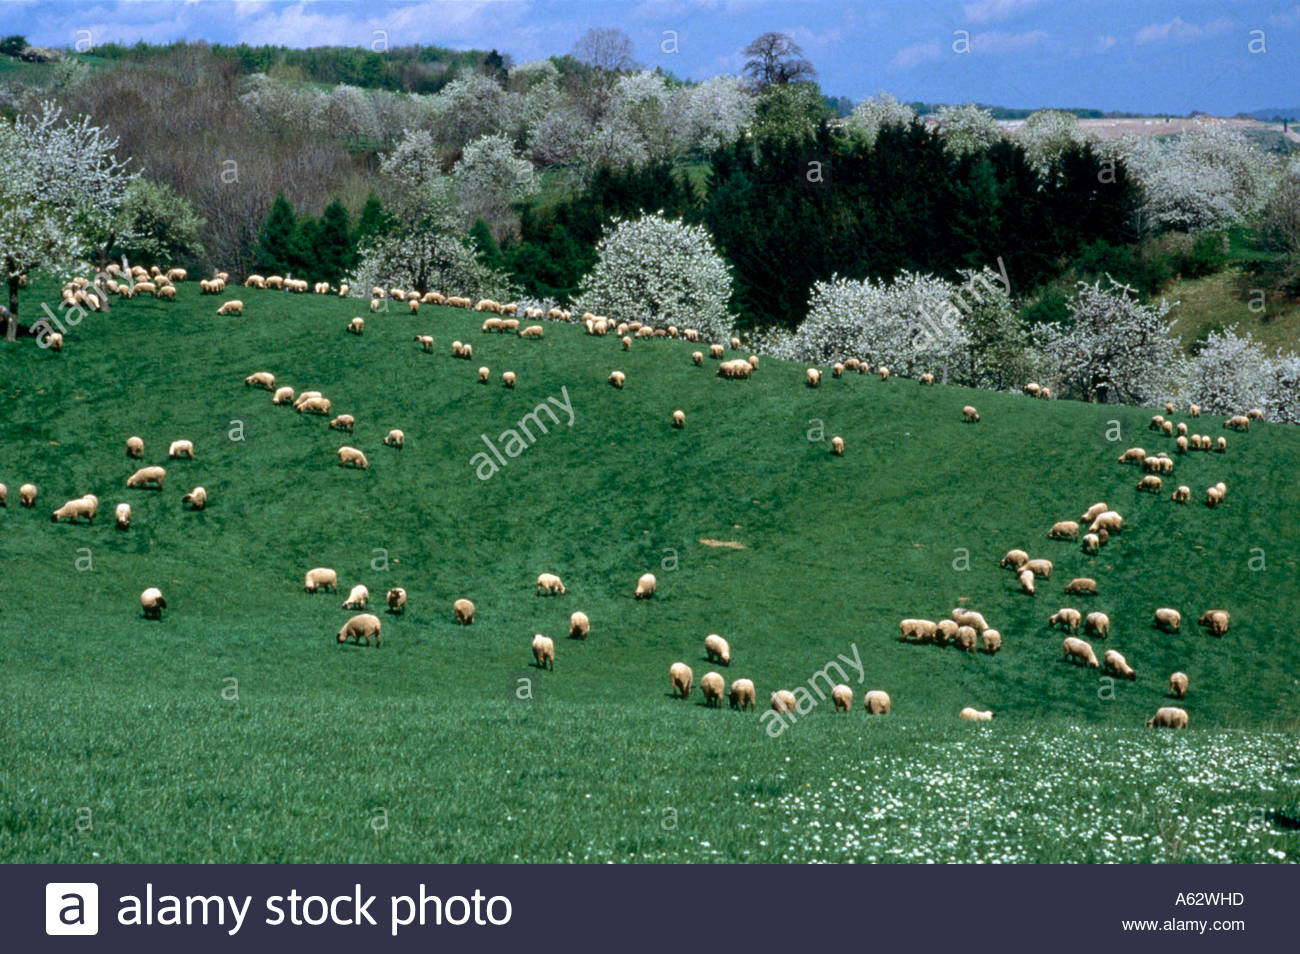sheep: (333, 611, 378, 648), (1061, 634, 1100, 671), (52, 498, 97, 526), (1104, 648, 1135, 684), (726, 676, 757, 712), (669, 659, 696, 700), (126, 464, 168, 491), (1149, 705, 1190, 730), (899, 615, 934, 644), (532, 632, 558, 669), (705, 632, 733, 666), (138, 586, 167, 620), (948, 608, 987, 632), (1081, 610, 1113, 639), (1048, 607, 1081, 635), (303, 566, 337, 594), (1147, 607, 1183, 632), (699, 671, 725, 707), (1047, 518, 1082, 543), (337, 442, 367, 471), (1088, 512, 1124, 536), (448, 596, 476, 624), (1021, 558, 1053, 584), (535, 573, 567, 598), (828, 683, 853, 714), (1078, 500, 1110, 523), (864, 686, 891, 713), (297, 395, 331, 415), (341, 585, 368, 610), (182, 483, 209, 508), (935, 618, 960, 645), (570, 608, 591, 639), (1064, 576, 1098, 596), (386, 586, 409, 614), (166, 439, 195, 461), (1117, 446, 1147, 468), (770, 690, 799, 712), (999, 548, 1030, 569), (633, 571, 657, 598), (981, 630, 1004, 657), (956, 623, 978, 651), (243, 372, 275, 391), (328, 414, 355, 434), (114, 503, 131, 534), (17, 481, 37, 507), (1170, 671, 1189, 699), (382, 427, 404, 450), (1080, 534, 1102, 557), (216, 299, 244, 317), (1136, 474, 1162, 495), (125, 435, 145, 459), (130, 281, 158, 298), (270, 386, 294, 406), (1223, 414, 1249, 432), (414, 332, 434, 354), (1204, 485, 1223, 506), (714, 360, 737, 378), (960, 405, 982, 422), (45, 332, 65, 351), (608, 372, 626, 391), (158, 283, 177, 302), (347, 316, 364, 336), (519, 324, 543, 338), (1021, 569, 1035, 595), (805, 367, 823, 386), (831, 435, 847, 454), (502, 372, 518, 389), (485, 317, 503, 333), (672, 408, 686, 427), (1177, 434, 1190, 452), (477, 366, 490, 386), (690, 351, 705, 366), (711, 344, 725, 358), (452, 339, 462, 357), (408, 300, 419, 315)
